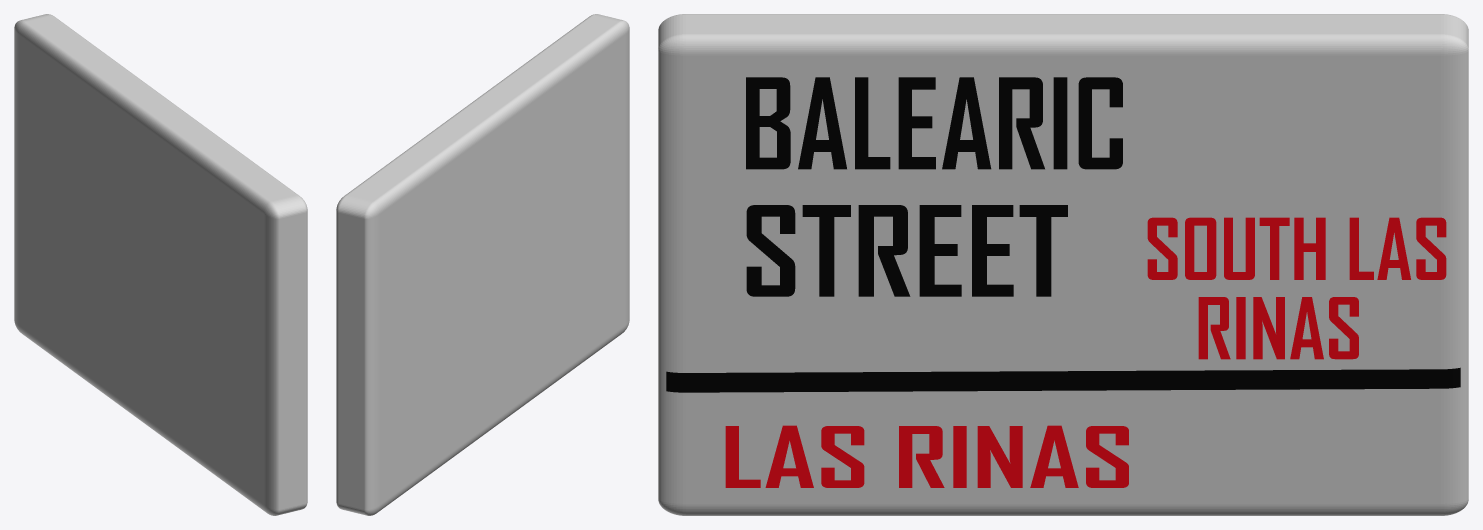
The model's file is uk_styled_street_sign_31.fbx.
3 renders of one model, left to right at view 1: azimuth 30°, elevation 25°; view 2: azimuth 150°, elevation 25°; view 3: azimuth 270°, elevation 25°, orthographic. The views are drawn at different scales.
Parts seen in each view (by area): view 1: Cube; view 2: Cube; view 3: Cube, Text, Text.001, Text.002, Text.003, Text.004.
Part boxes in pixels (bbox=[...]): Cube: bbox=[14, 14, 307, 515]; Cube: bbox=[336, 14, 629, 515]; Cube: bbox=[658, 14, 1468, 515]; Text: bbox=[746, 77, 1122, 169]; Text.001: bbox=[746, 205, 1067, 296]; Text.002: bbox=[725, 425, 1128, 487]; Text.003: bbox=[1147, 217, 1446, 279]; Text.004: bbox=[1198, 297, 1358, 359].
Size of the model in its own units: 1.63 by 11.91 by 18.18.
